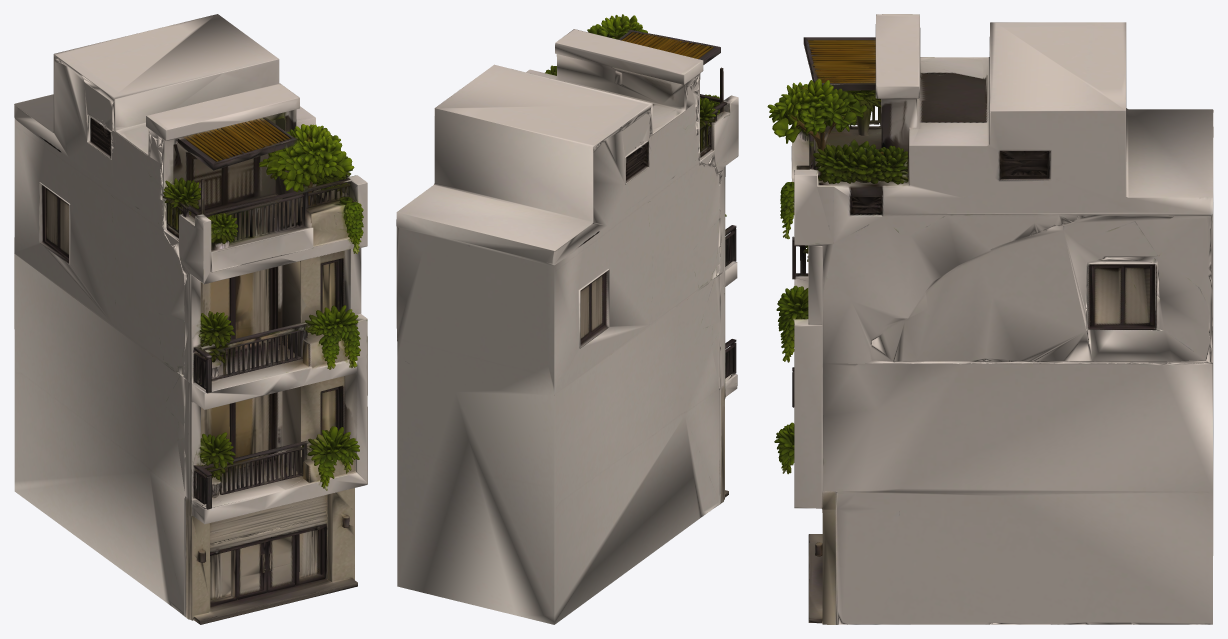
The model's file is nha-pho-4-tang.glb.
The picture shows the model from 3 angles, left to right: view 1: azimuth 30°, elevation 25°; view 2: azimuth 150°, elevation 25°; view 3: azimuth 270°, elevation 25°; orthographic projection. The views are drawn at different scales.
Parts seen in each view (by area): view 1: world; view 2: world; view 3: world.
Boxes of the visible parts, <box> form: world: <box>14,14,367,624</box>; world: <box>396,14,738,624</box>; world: <box>767,14,1213,624</box>.
Bounding box in the file's own units: 5.63 × 14.5 × 11.22.
Materials: 1 (1 with a texture image).
